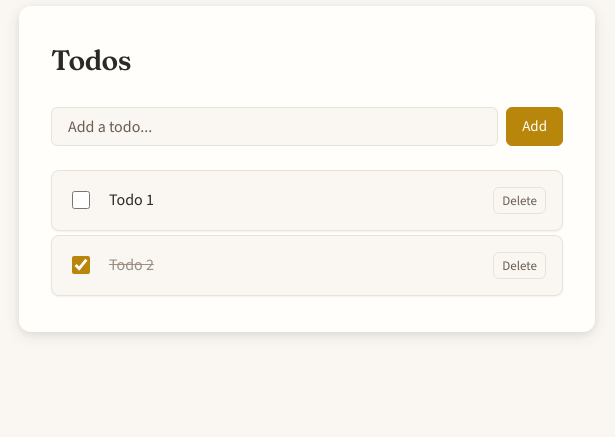
Test case: App › displays error when add fails
The width and height of the screenshot is (615, 437).
Step 1. Type "New todo" into the field with placeholder "Add a todo..." → (275, 126), box [51,107,498,146]
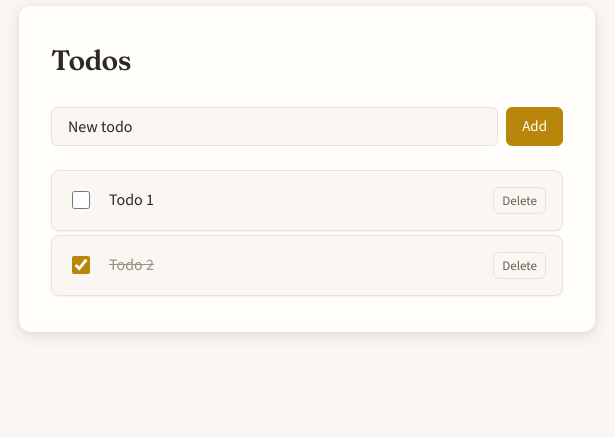
Step 2. Submit the form, box [51,107,563,146]
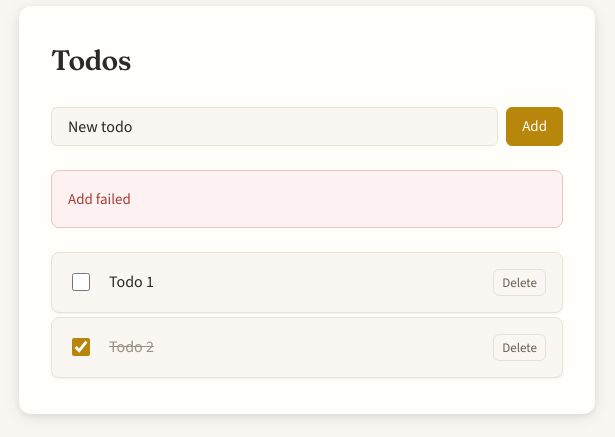
Expected: the message "Add failed" is shown, [51,170,563,228]
